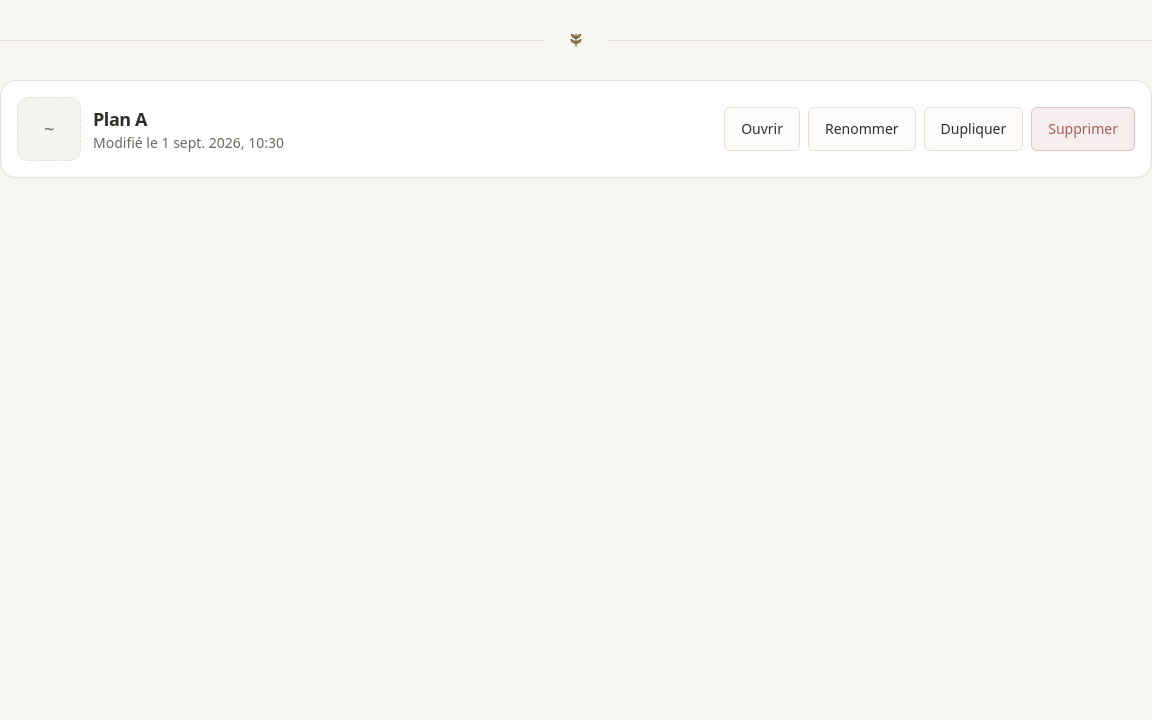
Test: PlanList › deletes a plan after confirmation
The width and height of the screenshot is (1152, 720).
Click the button "Supprimer" at (1083,129), box [1031,107,1135,151]
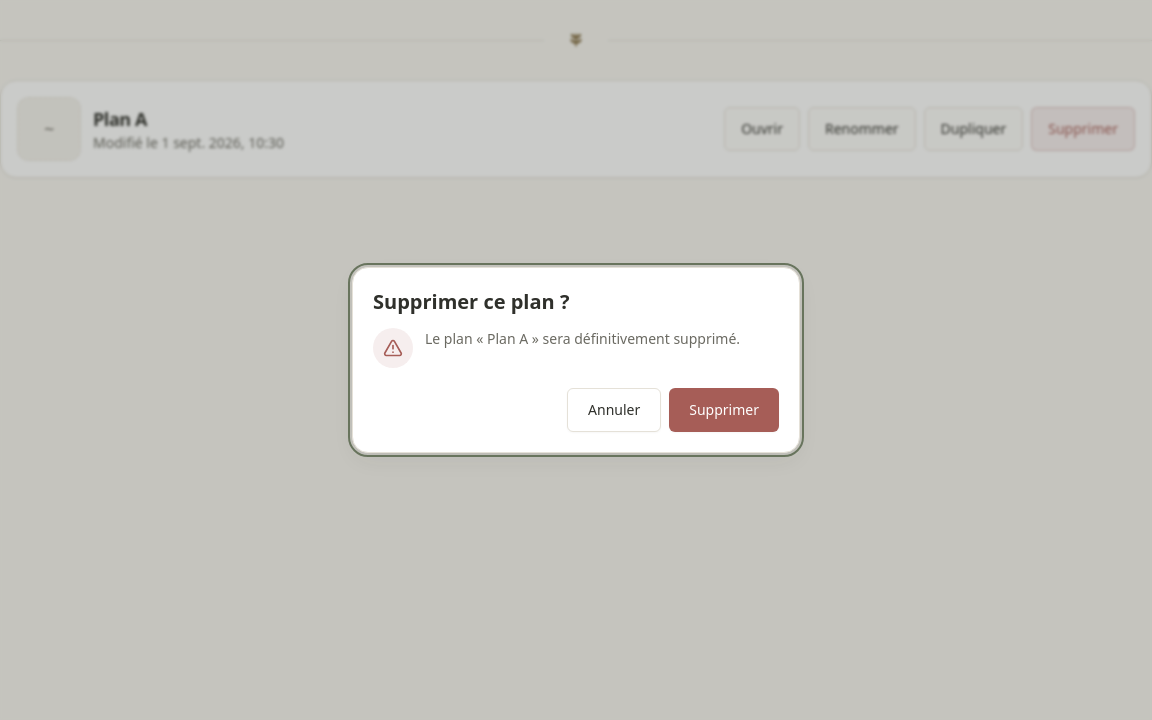
Expected: the heading "Supprimer ce plan ?" is shown, [373,288,569,315]
Click the button "Supprimer" at (724,410), box [669,388,779,432]
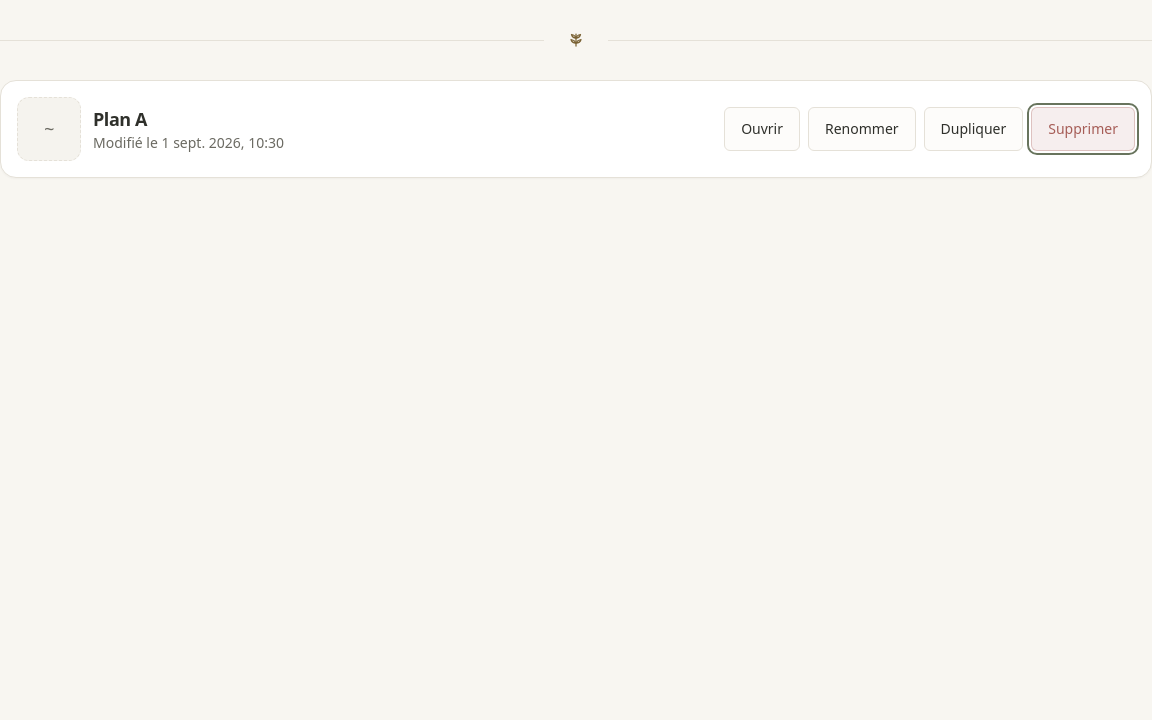
Expected: the dialog is gone
